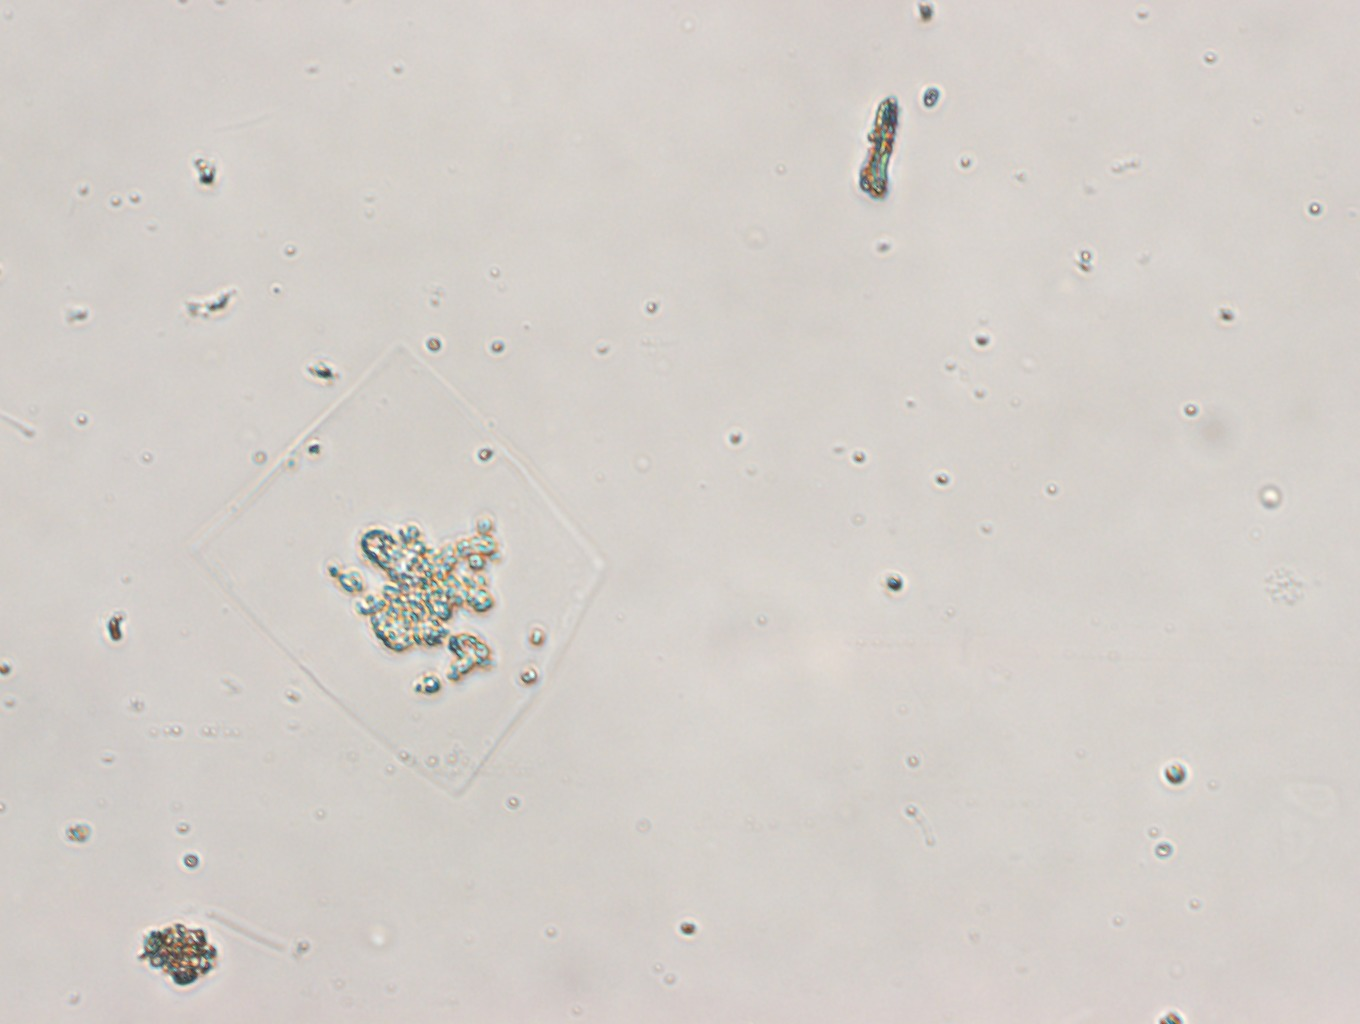helicotheca: (182, 340, 610, 799)
